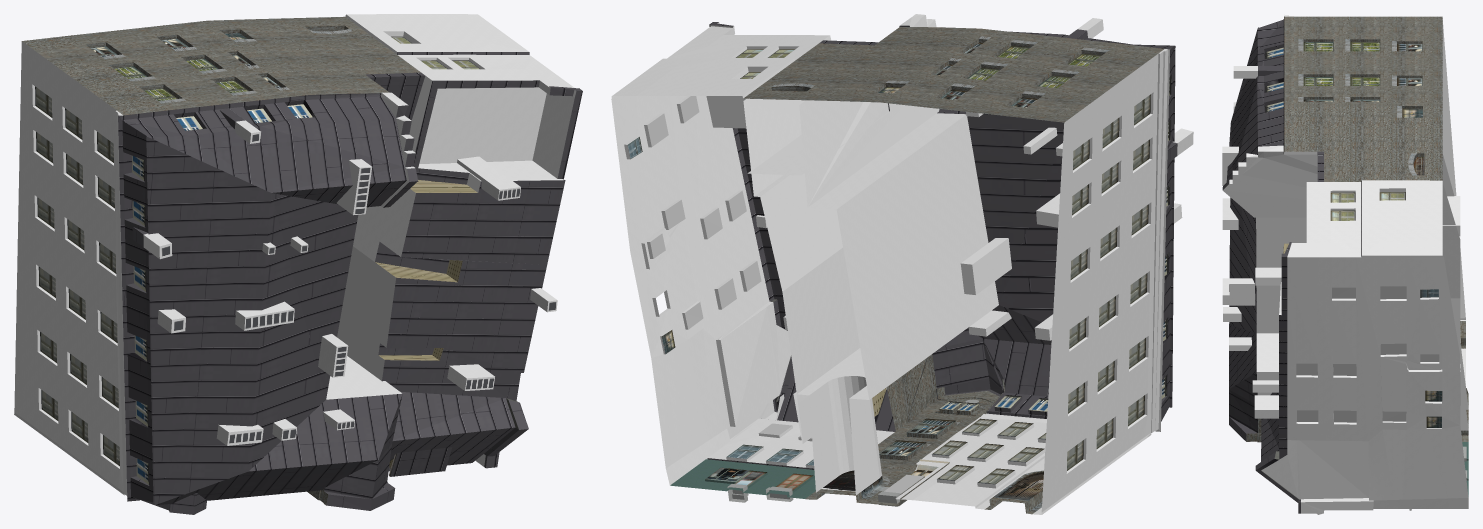
File: Ryytli_13.obj
The picture shows the model from 3 angles, left to right: view 1: azimuth 30°, elevation 25°; view 2: azimuth 150°, elevation 25°; view 3: azimuth 270°, elevation 25°; orthographic projection. The views are drawn at different scales.
Parts seen in each view (by area): view 1: Ryytli_13; view 2: Ryytli_13; view 3: Ryytli_13.
Part boxes in pixels (<box>): Ryytli_13: <box>14,14,582,514</box>; Ryytli_13: <box>611,14,1193,514</box>; Ryytli_13: <box>1222,14,1468,514</box>.
Bounding box in the file's own units: 30.33 × 28.46 × 17.96.
